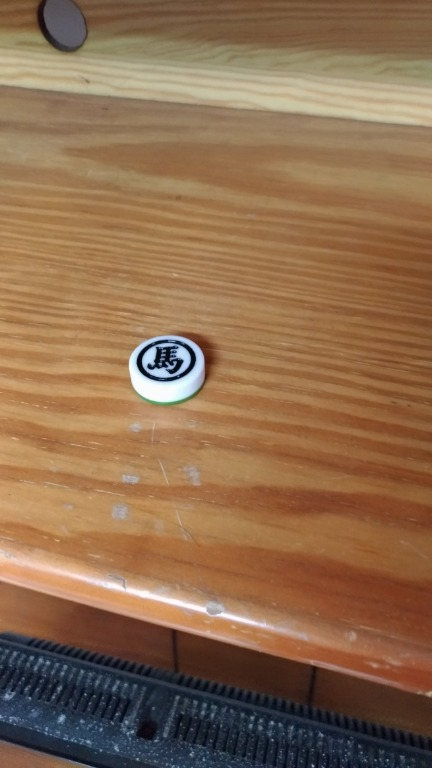b-knight: (120, 322, 232, 412)
